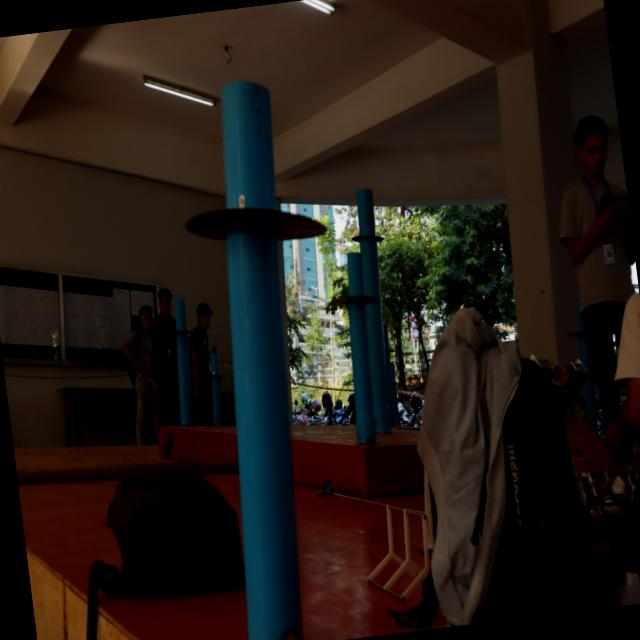pole: (168, 73, 340, 356), (339, 178, 387, 266), (334, 248, 378, 336), (164, 294, 200, 364)
